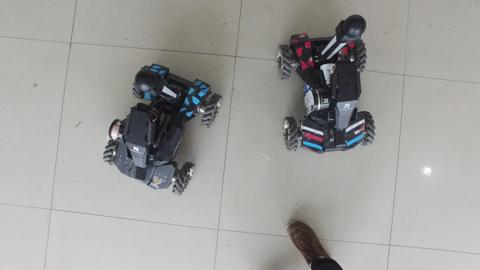chariot: (99, 60, 231, 202), (272, 9, 383, 160)
